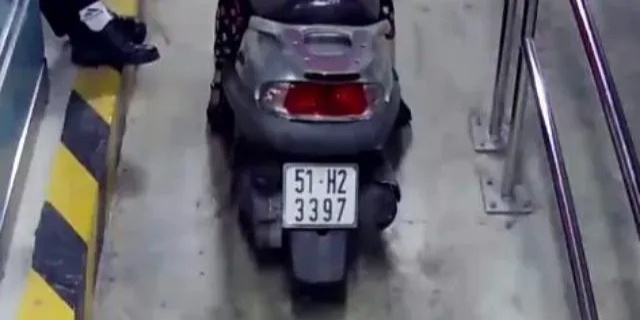bien_so: (285, 164, 358, 226)
